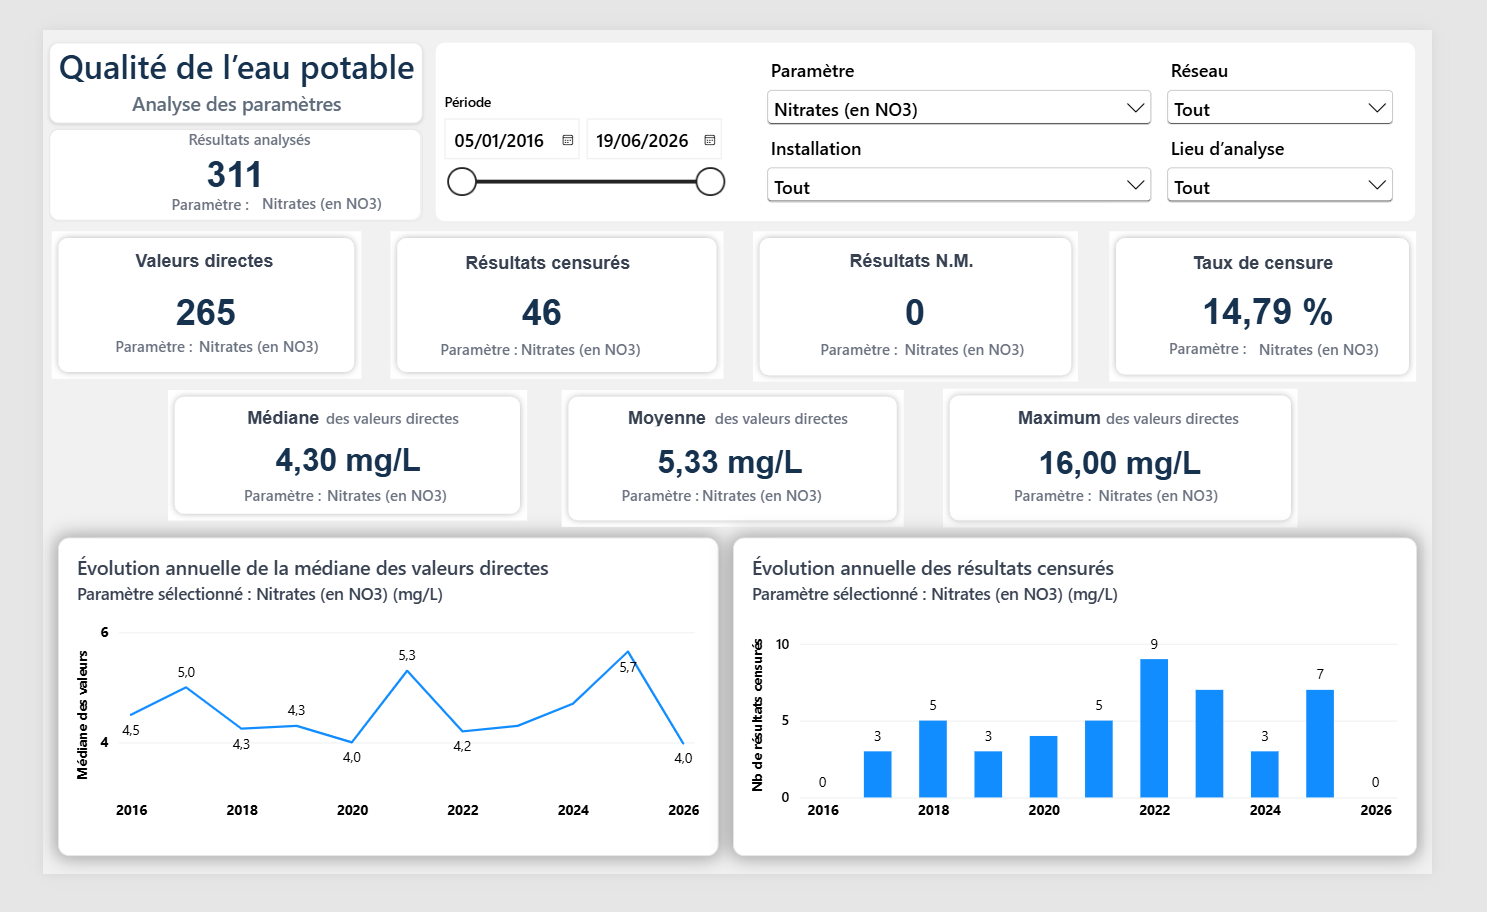

The page's visual inventory and layout, read from the dashboard file:
{"tool":"powerbi","page":{"name":"Analyse des paramètres","canvas":[1235,750],"ordinal":2},"visuals":[{"type":"shape","box":[349,11.6,870.8,158.9],"z":0},{"type":"shape","box":[8.1,178.6,274.8,131],"z":1000},{"type":"slicer","fields":{"Values":["dim_date.date"]},"box":[348.7,55.1,260.3,101.3],"z":2000},{"type":"slicer","fields":{"Values":["dim_installation.nom_installation_amont"]},"box":[638.5,93.6,351.3,67.9],"z":3000},{"type":"slicer","fields":{"Values":["dim_reseau.code_reseau"]},"box":[994.9,24.4,210.3,59],"z":4000},{"type":"cardVisual","title":"Nombre total de prélèvements","fields":{"Data":["fact_resultats.Affichage_nombre_total_résultats"]},"box":[5.8,88.1,331.6,82.3],"z":5000},{"type":"cardVisual","fields":{"Data":["fact_resultats.Affichage_Nb_valeurs_directes_avec_réseau"]},"box":[27.8,218,234.2,47.5],"z":6000},{"type":"textbox","title":"Valeurs directes","box":[59.1,197.1,169.3,25.5],"z":7000},{"type":"textbox","title":"Qualité de l’eau potable","box":[5.8,11.6,331.6,71.9],"z":8000},{"type":"textbox","title":"Résultats analysés","box":[85.8,88.1,195.9,28.4],"z":9000},{"type":"slicer","fields":{"Values":["dim_parametre.libelle_parametre"]},"box":[638.5,24.4,351.3,69.2],"z":10000},{"type":"slicer","fields":{"Values":["fact_resultats.code_lieu_analyse"]},"box":[994.9,93.6,210.3,69.2],"z":11000},{"type":"lineChart","title":"Évolution annuelle de la médiane des valeurs directes","fields":{"Category":["dim_date.annee"],"Y":["fact_resultats.Médiane_valeurs_directes_avec_réseau"]},"box":[13,451.3,587,283.1],"z":12000},{"type":"textbox","box":[93.9,272.5,194.8,26.7],"z":13000},{"type":"textbox","title":"Paramètre :","box":[98.4,145.3,99.6,21.6],"z":14000},{"type":"shape","box":[308.4,178.6,295.7,131],"z":15000},{"type":"shape","box":[630.8,178.6,288.8,133.9],"z":16000},{"type":"textbox","title":"Résultats censurés","box":[343.2,198.3,210.8,25.7],"z":17000},{"type":"textbox","title":"Résultats N.M.","box":[666.7,197.1,210.8,25.7],"z":18000},{"type":"cardVisual","fields":{"Data":["fact_resultats.Affichage_Nb_résultats_censurés_avec_réseau"]},"box":[318.9,218,249.3,47.5],"z":19000},{"type":"cardVisual","fields":{"Data":["Sélecteur_Type_Contrôle.Affichage_Nb_résultats_NM_avec_réseau"]},"box":[665.6,218,219.2,46.4],"z":20000},{"type":"textbox","title":"Paramètre :","box":[48.7,272.5,99.6,21.6],"z":21000},{"type":"textbox","box":[380.3,274.8,195.9,28.4],"z":22000},{"type":"textbox","box":[721.2,274.8,195.9,28.4],"z":23000},{"type":"textbox","box":[149.6,144.9,195.9,28.4],"z":24000},{"type":"textbox","title":"Paramètre :","box":[337.4,274.8,99.6,21.6],"z":25000},{"type":"textbox","title":"Paramètre :","box":[676,274.8,99.6,21.6],"z":26000},{"type":"shape","box":[947.4,178.6,272.5,133.3],"z":27000},{"type":"textbox","title":"Taux de censure","box":[978.7,198.3,210.8,25.7],"z":28000},{"type":"cardVisual","fields":{"Data":["fact_resultats.Affichage_Taux_résultats_censurés_avec_réseau"]},"box":[970.6,216.8,238.9,51],"z":29000},{"type":"textbox","title":"Paramètre :","box":[985.6,273.7,99.6,21.6],"z":30000},{"type":"textbox","box":[1049.4,274.8,170.5,25.5],"z":31000},{"type":"shape","box":[111.3,320,318.9,116],"z":32000},{"type":"shape","box":[461.5,320,303.8,121.8],"z":33000},{"type":"shape","box":[800.1,318.9,315.4,122.9],"z":34000},{"type":"textbox","title":"Médiane","box":[128.7,335.1,169.3,25.5],"z":35000},{"type":"textbox","title":"Moyenne","box":[469.6,335.1,169.3,25.5],"z":36000},{"type":"textbox","title":"Maximum","box":[818.6,335.1,169.3,25.5],"z":37000},{"type":"textbox","title":"des valeurs directes","box":[228.4,335.1,163.4,21.1],"z":38000},{"type":"cardVisual","fields":{"Data":["fact_resultats.Affichage_Médiane_valeurs_directes_avec_réseau"]},"box":[132.2,350.2,278.3,54.5],"z":39000},{"type":"cardVisual","fields":{"Data":["fact_resultats.Affichage_Moyenne_valeurs_directes_avec_réseau"]},"box":[469.6,352.5,281.8,52.2],"z":40000},{"type":"cardVisual","fields":{"Data":["fact_resultats.Affichage_Maximum_valeurs_directes_avec_réseau"]},"box":[814,353.7,285.3,56.8],"z":41000},{"type":"textbox","title":"des valeurs directes","box":[576.3,335.1,159.1,18.3],"z":42000},{"type":"textbox","title":"des valeurs directes","box":[919.5,335.1,167.6,21.1],"z":43000},{"type":"textbox","title":"Paramètre :","box":[163.5,404.7,99.6,21.6],"z":44000},{"type":"textbox","title":"Paramètre :","box":[498.6,404.7,99.6,21.6],"z":45000},{"type":"textbox","title":"Paramètre :","box":[847.6,404.7,99.6,21.6],"z":46000},{"type":"textbox","box":[207.6,404.7,195.9,28.4],"z":47000},{"type":"textbox","box":[541.5,404.7,195.9,28.4],"z":48000},{"type":"textbox","box":[892.9,404.7,195.9,28.4],"z":49000},{"type":"clusteredColumnChart","title":"Évolution annuelle des résultats censurés","fields":{"Category":["dim_date.annee"],"Y":["fact_resultats.Nb_résultats_censurés_avec_réseau_graphique"]},"box":[613.1,451.3,607.8,283.1],"z":50002},{"type":"cardVisual","fields":{"Data":["fact_resultats.Message_absence_valeurs_directes"]},"box":[61.3,686.1,515.2,48.3],"z":50003}]}

Visuals, with their boxes in screenshot pixels (x1, y1, x2, y2), scaled from the page's 1235x750 canvas onto the 1487x912 screenshot:
shape: 420 14 1469 207
shape: 10 217 341 376
slicer - dim_date.date: 420 67 733 190
slicer - dim_installation.nom_installation_amont: 769 114 1192 196
slicer - dim_reseau.code_reseau: 1198 30 1451 101
"Nombre total de prélèvements" cardVisual: 7 107 406 207
cardVisual - fact_resultats.Affichage_Nb_valeurs_directes_avec_réseau: 33 265 315 323
"Valeurs directes" textbox: 71 240 275 271
"Qualité de l’eau potable" textbox: 7 14 406 102
"Résultats analysés" textbox: 103 107 339 142
slicer - dim_parametre.libelle_parametre: 769 30 1192 114
slicer - fact_resultats.code_lieu_analyse: 1198 114 1451 198
"Évolution annuelle de la médiane des valeurs directes" lineChart: 16 549 722 893
textbox: 113 331 348 364
"Paramètre :" textbox: 118 177 238 203
shape: 371 217 727 376
shape: 760 217 1107 380
"Résultats censurés" textbox: 413 241 667 272
"Résultats N.M." textbox: 803 240 1057 271
cardVisual - fact_resultats.Affichage_Nb_résultats_censurés_avec_réseau: 384 265 684 323
cardVisual - Sélecteur_Type_Contrôle.Affichage_Nb_résultats_NM_avec_réseau: 801 265 1065 322
"Paramètre :" textbox: 59 331 179 358
textbox: 458 334 694 369
textbox: 868 334 1104 369
textbox: 180 176 416 211
"Paramètre :" textbox: 406 334 526 360
"Paramètre :" textbox: 814 334 934 360
shape: 1141 217 1469 379
"Taux de censure" textbox: 1178 241 1432 272
cardVisual - fact_resultats.Affichage_Taux_résultats_censurés_avec_réseau: 1169 264 1456 326
"Paramètre :" textbox: 1187 333 1307 359
textbox: 1264 334 1469 365
shape: 134 389 518 530
shape: 556 389 921 537
shape: 963 388 1343 537
"Médiane" textbox: 155 407 359 438
"Moyenne" textbox: 565 407 769 438
"Maximum" textbox: 986 407 1189 438
"des valeurs directes" textbox: 275 407 472 433
cardVisual - fact_resultats.Affichage_Médiane_valeurs_directes_avec_réseau: 159 426 494 492
cardVisual - fact_resultats.Affichage_Moyenne_valeurs_directes_avec_réseau: 565 429 905 492
cardVisual - fact_resultats.Affichage_Maximum_valeurs_directes_avec_réseau: 980 430 1324 499
"des valeurs directes" textbox: 694 407 885 430
"des valeurs directes" textbox: 1107 407 1309 433
"Paramètre :" textbox: 197 492 317 518
"Paramètre :" textbox: 600 492 720 518
"Paramètre :" textbox: 1021 492 1140 518
textbox: 250 492 486 527
textbox: 652 492 888 527
textbox: 1075 492 1311 527
"Évolution annuelle des résultats censurés" clusteredColumnChart: 738 549 1470 893
cardVisual - fact_resultats.Message_absence_valeurs_directes: 74 834 694 893
